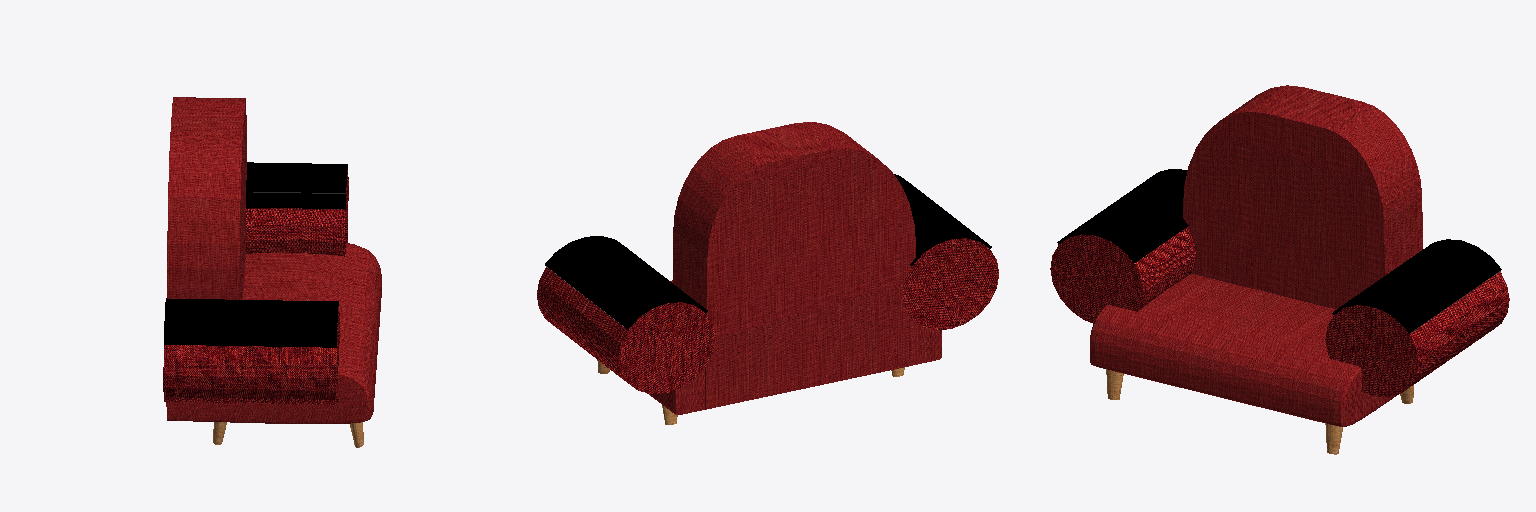
3 views of the same model, side by side, from view 1: azimuth 30°, elevation 25°; view 2: azimuth 150°, elevation 25°; view 3: azimuth 270°, elevation 25° (orthographic).
Visible parts, largest first — view 1: Armchair:sofa_1_barispolySurface6polySurface4polySurface9polySur; view 2: Armchair:sofa_1_barispolySurface6polySurface4polySurface9polySur; view 3: Armchair:sofa_1_barispolySurface6polySurface4polySurface9polySur.
Part boxes in pixels (x1,y1,x2,y2): Armchair:sofa_1_barispolySurface6polySurface4polySurface9polySur: (163,97,381,447); Armchair:sofa_1_barispolySurface6polySurface4polySurface9polySur: (537,122,998,424); Armchair:sofa_1_barispolySurface6polySurface4polySurface9polySur: (1050,85,1509,454).
Size of the model in its own units: 12.87 by 10.15 by 15.81.
6 materials, 3 textured.